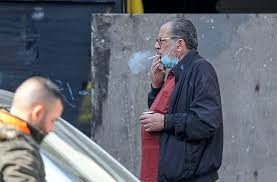mask_weared_incorrect: (36, 102, 68, 141), (151, 35, 181, 67)
